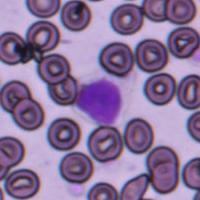L: (74, 74, 126, 127)
